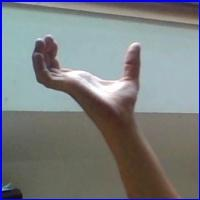B: (26, 29, 153, 113)
